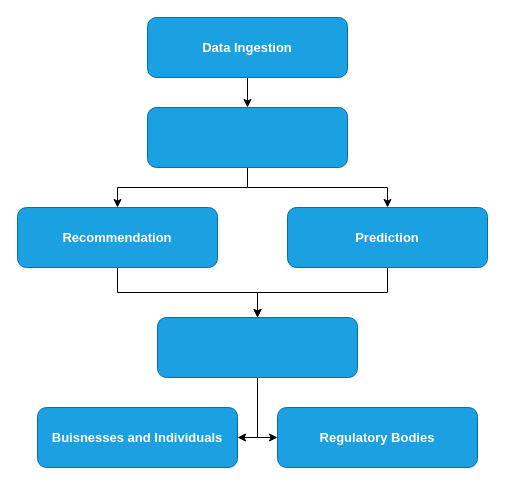
Some shapes in this 505 by 485 pixel diagram are drawn without their labels. Here are the shapes that lost their labels. From the top down, the box of each, then its label:
(146, 106, 348, 168): Training and Evaluation
(156, 316, 358, 378): Output
